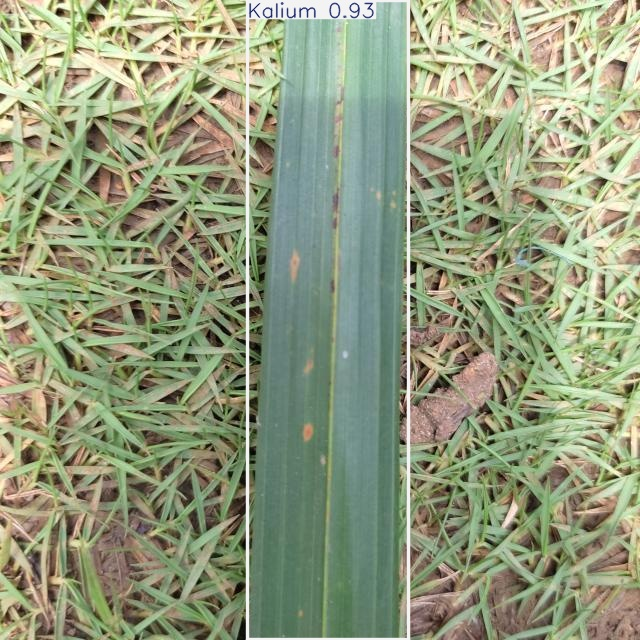Kalium: (247, 0, 409, 639)
